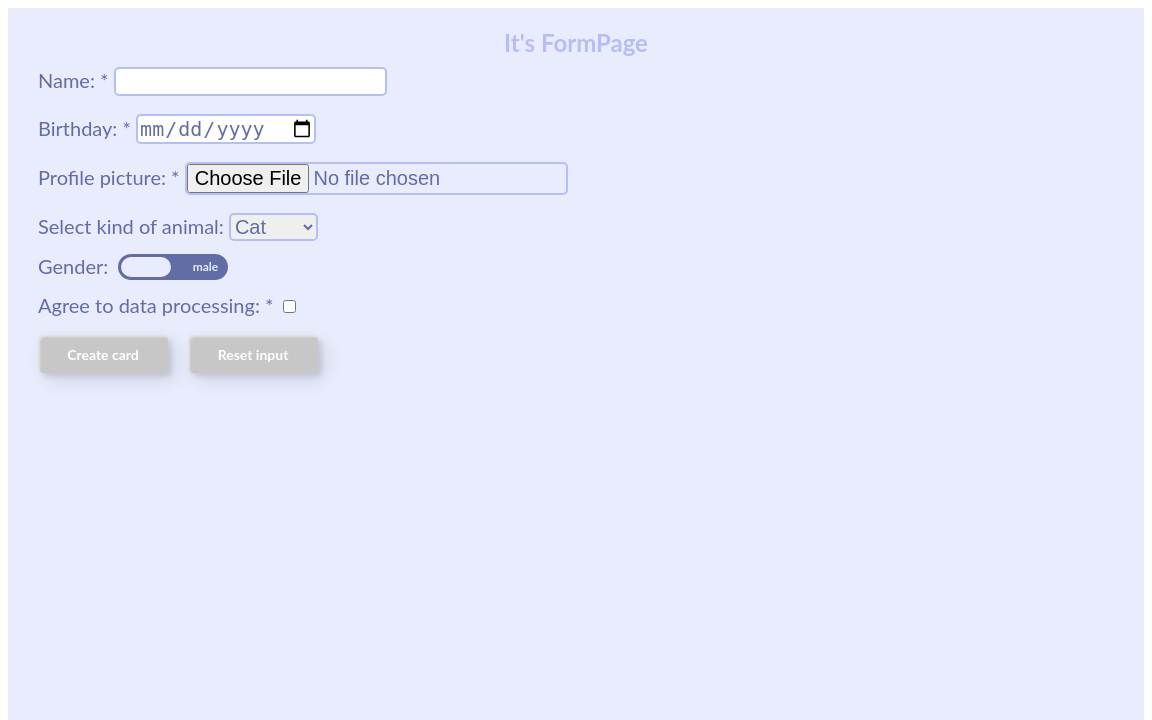
Scenario: <Button /> › should reset the input fields after clicking on the reset button
Type "Name" into the field labelled "Name: *".
click(250, 82); type("Name")  # box 114,67 -> 387,96
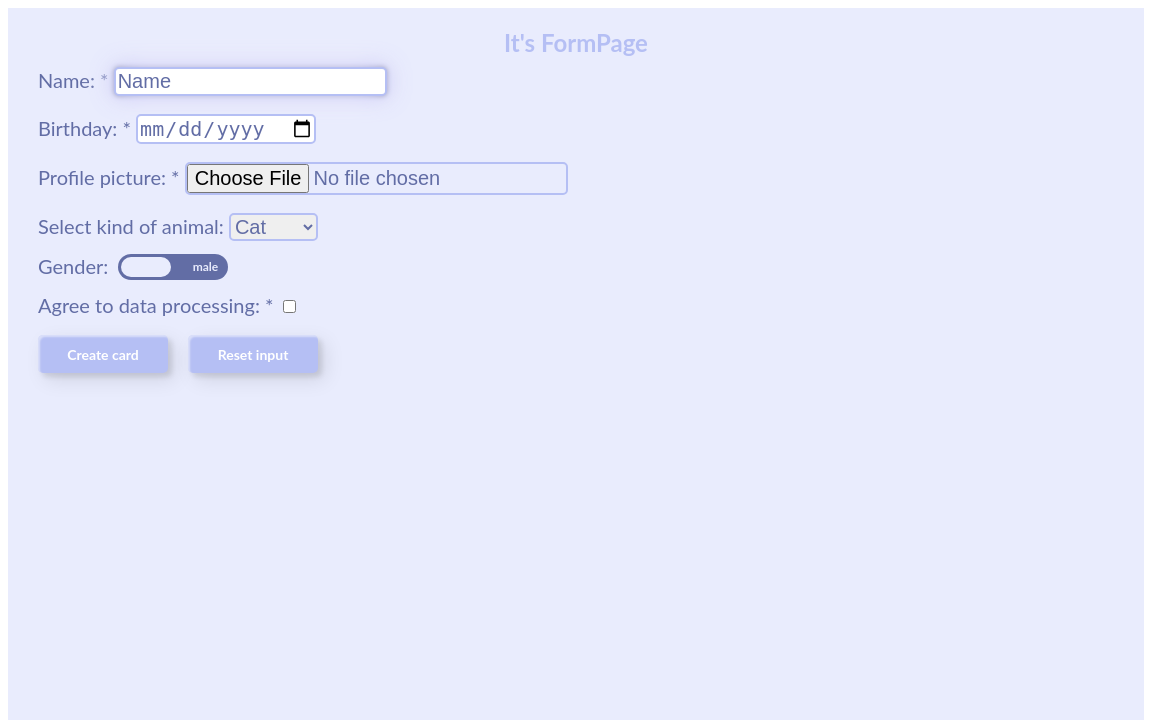
Click the button "Reset input".
click(253, 354)  # box 188,335 -> 318,373
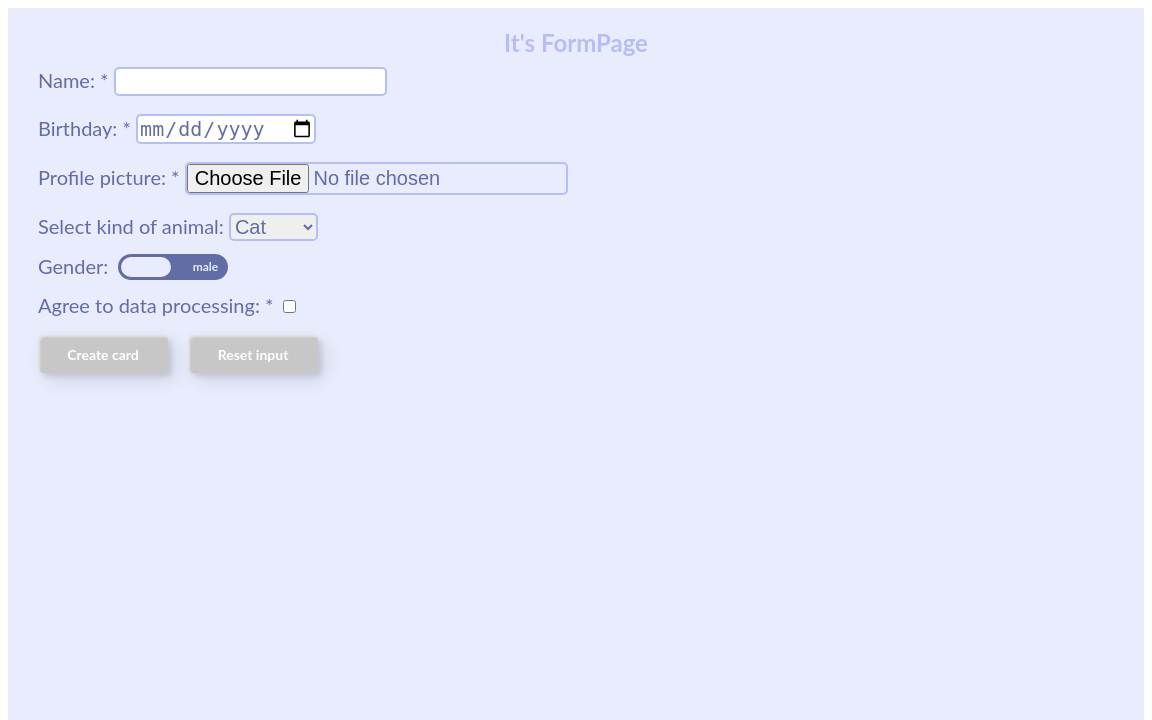
Check: the field labelled "Name: *" is empty, box 114,67 -> 387,96
